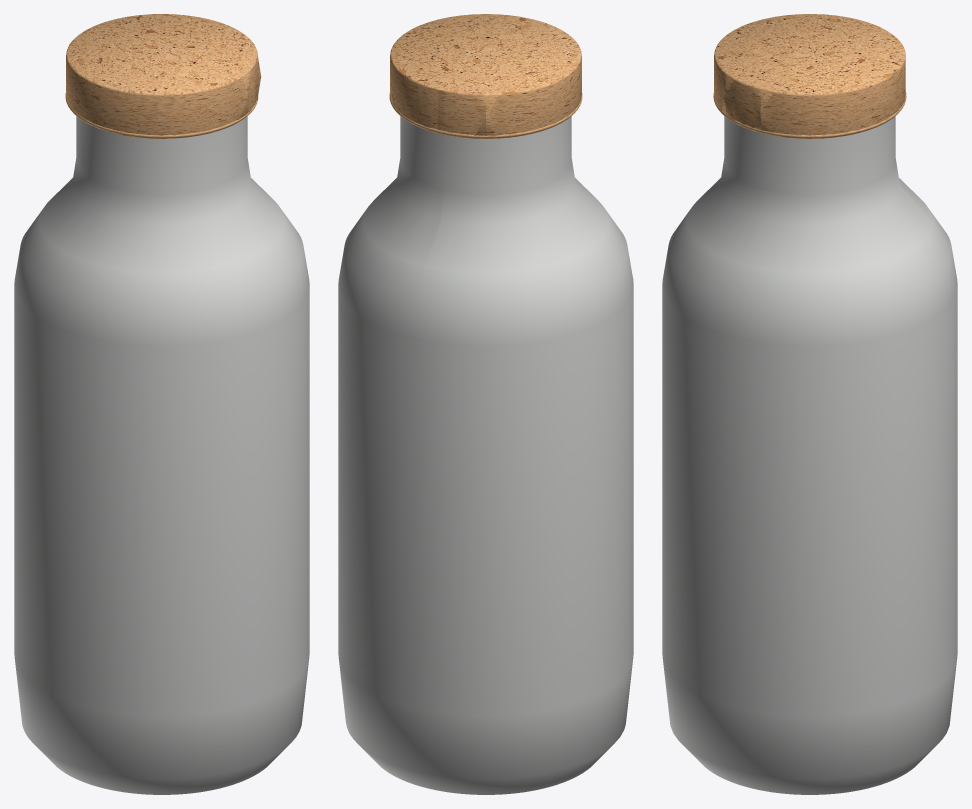
3 views of the same model, side by side, from view 1: azimuth 30°, elevation 25°; view 2: azimuth 150°, elevation 25°; view 3: azimuth 270°, elevation 25° (orthographic).
Parts seen in each view (by area): view 1: thin shell with corrected shoulder, removable closure, closure lower bead; view 2: thin shell with corrected shoulder, removable closure, closure lower bead; view 3: thin shell with corrected shoulder, removable closure, closure lower bead.
Boxes of the visible parts, box(x1,y1,x2,y2) form: thin shell with corrected shoulder: box(14, 116, 309, 794); removable closure: box(66, 14, 261, 138); closure lower bead: box(65, 93, 258, 138); thin shell with corrected shoulder: box(338, 116, 633, 794); removable closure: box(390, 14, 581, 138); closure lower bead: box(389, 93, 582, 138); thin shell with corrected shoulder: box(662, 116, 957, 794); removable closure: box(714, 14, 905, 138); closure lower bead: box(713, 92, 906, 138).
Bounding box in the file's own units: 0.094 × 0.243 × 0.094.
3 materials, 1 textured.
